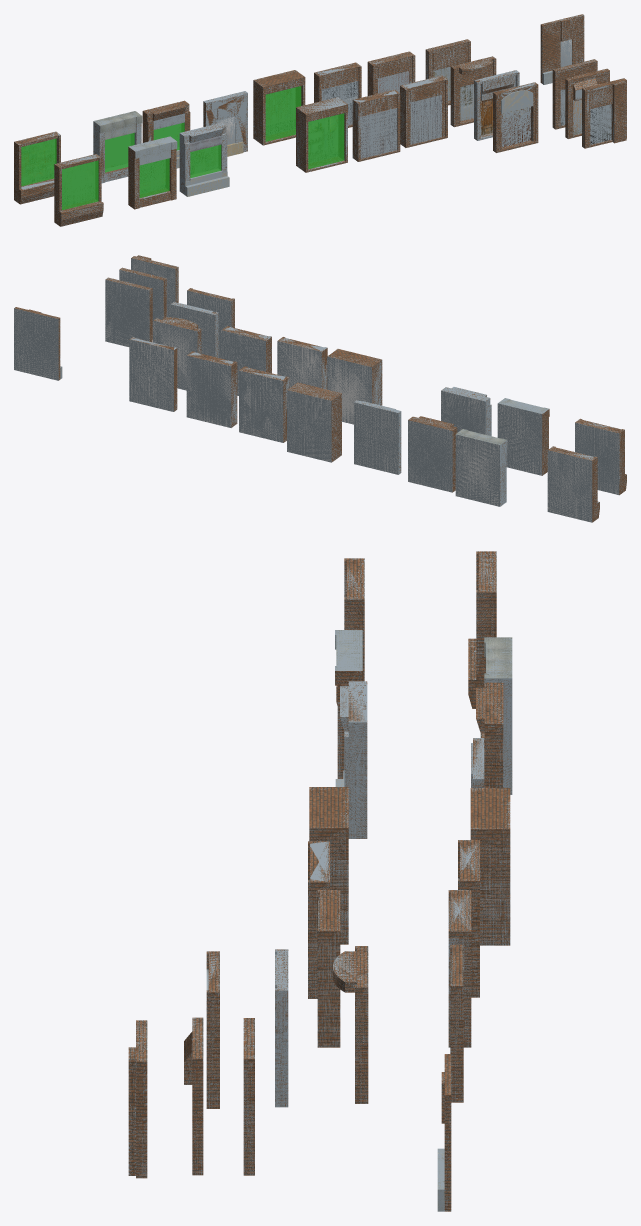
File: entrancesHighPoly.fbx
3 views of the same model, one above another, from view 1: azimuth 30°, elevation 25°; view 2: azimuth 150°, elevation 25°; view 3: azimuth 270°, elevation 25° (orthographic). The views are drawn at different scales.
Visible parts, largest first — view 1: Group16, Group18, Group12, Group21, Group8, Group13, Group6, Group14, Group17, Group7, Group20, Group10 (+9 smaller); view 2: Group18, Group20, Group4, Group17, Group11, Group21, Group19, Group9, Group5, Group10, Group3, Group16 (+9 smaller); view 3: Group18, Group12, Group16, Group6, Group15, Group7, Group17, Group4, Group11, Group20, Group2, Group22 (+8 smaller).
Part boxes in pixels (x1,y1,x2,y2): Group16: (296, 97, 347, 172); Group18: (253, 70, 305, 145); Group12: (179, 123, 229, 196); Group21: (128, 136, 177, 209); Group8: (352, 89, 400, 161); Group13: (54, 154, 103, 226); Group6: (400, 75, 447, 147); Group14: (493, 82, 538, 152); Group17: (14, 131, 60, 204); Group7: (582, 78, 626, 148); Group20: (93, 111, 142, 183); Group10: (540, 14, 584, 84); Group18: (287, 382, 341, 462); Group20: (455, 429, 507, 506); Group4: (186, 351, 237, 427); Group17: (547, 446, 599, 522); Group11: (408, 416, 457, 492); Group21: (497, 398, 549, 475); Group19: (239, 366, 289, 442); Group9: (129, 337, 177, 411); Group5: (354, 400, 401, 474); Group10: (14, 307, 62, 380); Group3: (105, 277, 152, 346); Group16: (327, 349, 382, 424); Group18: (470, 788, 510, 945); Group12: (335, 681, 367, 838); Group16: (309, 787, 348, 944); Group6: (317, 890, 340, 1047); Group15: (332, 946, 368, 1103); Group7: (128, 1020, 147, 1178); Group17: (468, 551, 496, 708); Group4: (448, 890, 471, 1047); Group11: (476, 682, 503, 787); Group20: (484, 637, 512, 794); Group2: (184, 1017, 203, 1175); Group22: (275, 949, 288, 1107).
Size of the model in its own units: 2336 by 250 by 696.
